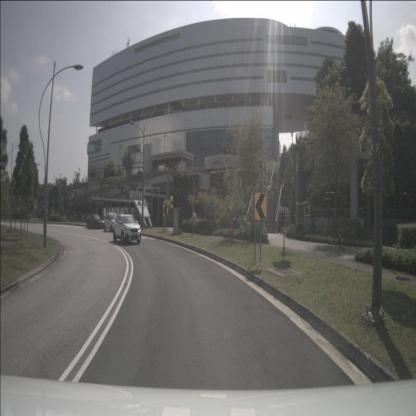human-pedestrian-adult: (124, 209, 127, 227)
vehicle-car: (113, 214, 141, 244), (104, 213, 121, 231), (87, 214, 105, 229)
